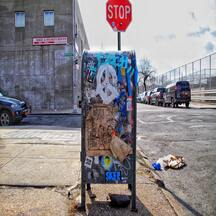Circle: (105, 0, 132, 31)
